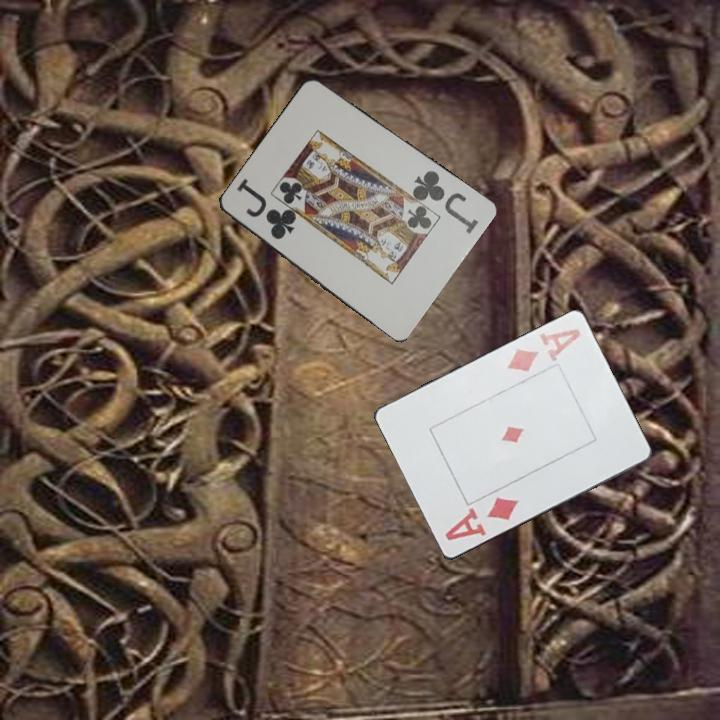Ad: (441, 492, 522, 544), (503, 325, 583, 376)
Jc: (408, 167, 481, 237), (233, 178, 298, 242)
